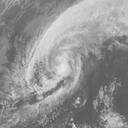cyclone: (22, 30, 81, 96)
